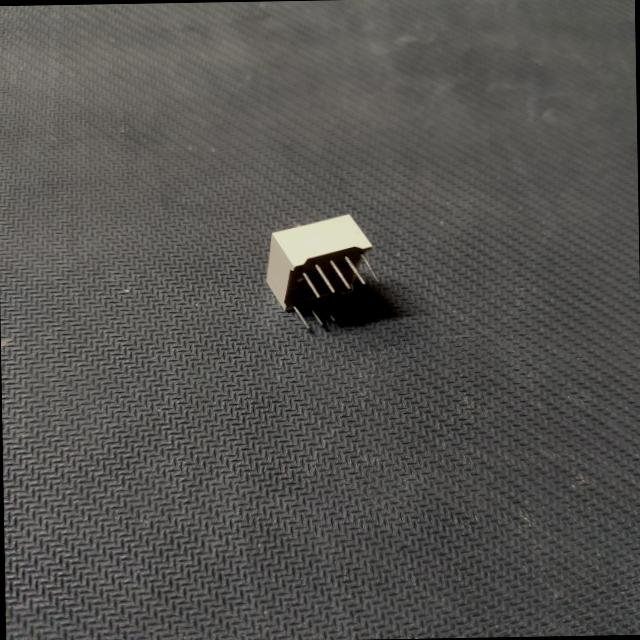sevensegment: (258, 210, 391, 341)
